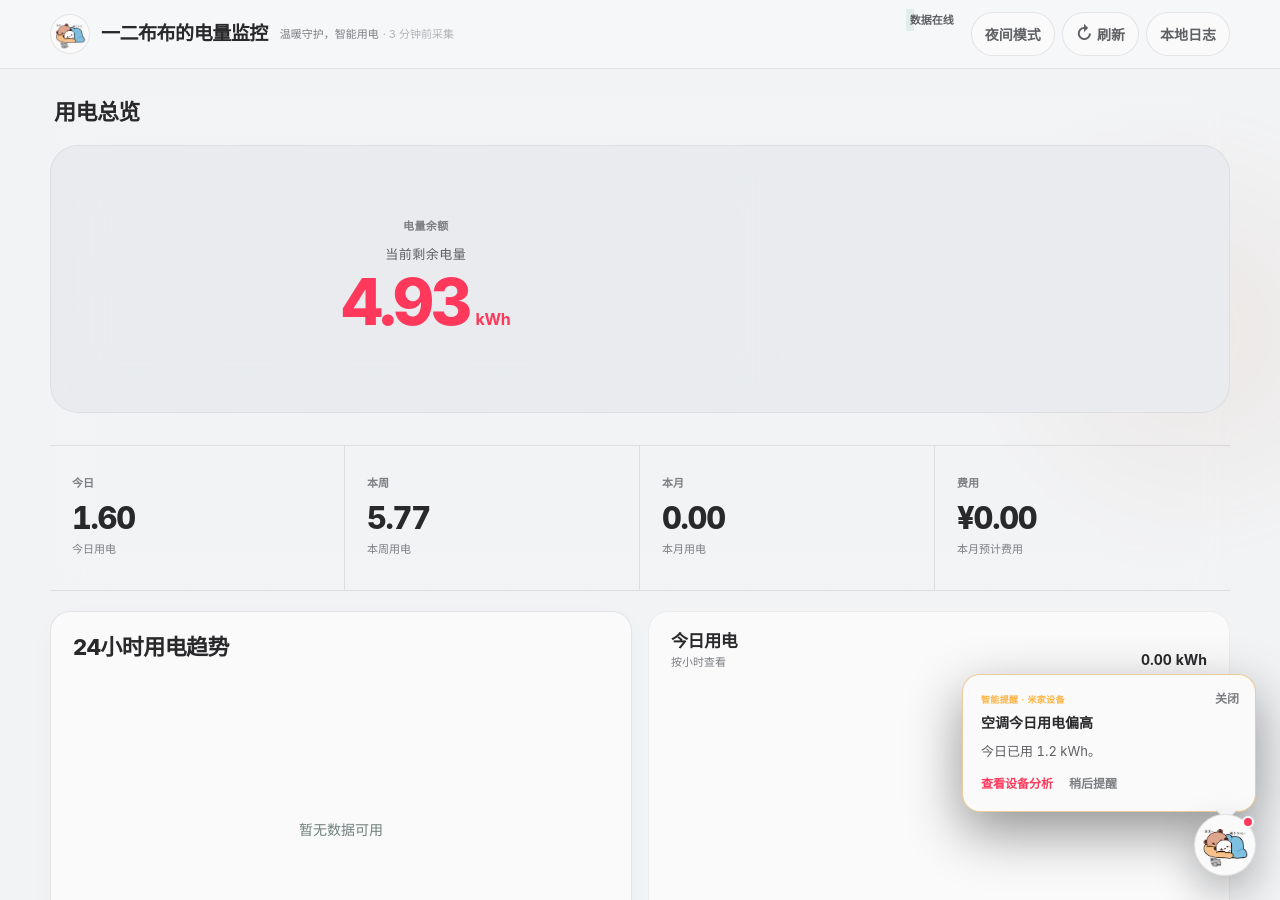
Test: sends recent structured conversation context for natural follow-up questions
Click the button named "打开布布用电助手" at (1225, 845), box x1=1194 y1=814 x2=1256 y2=876
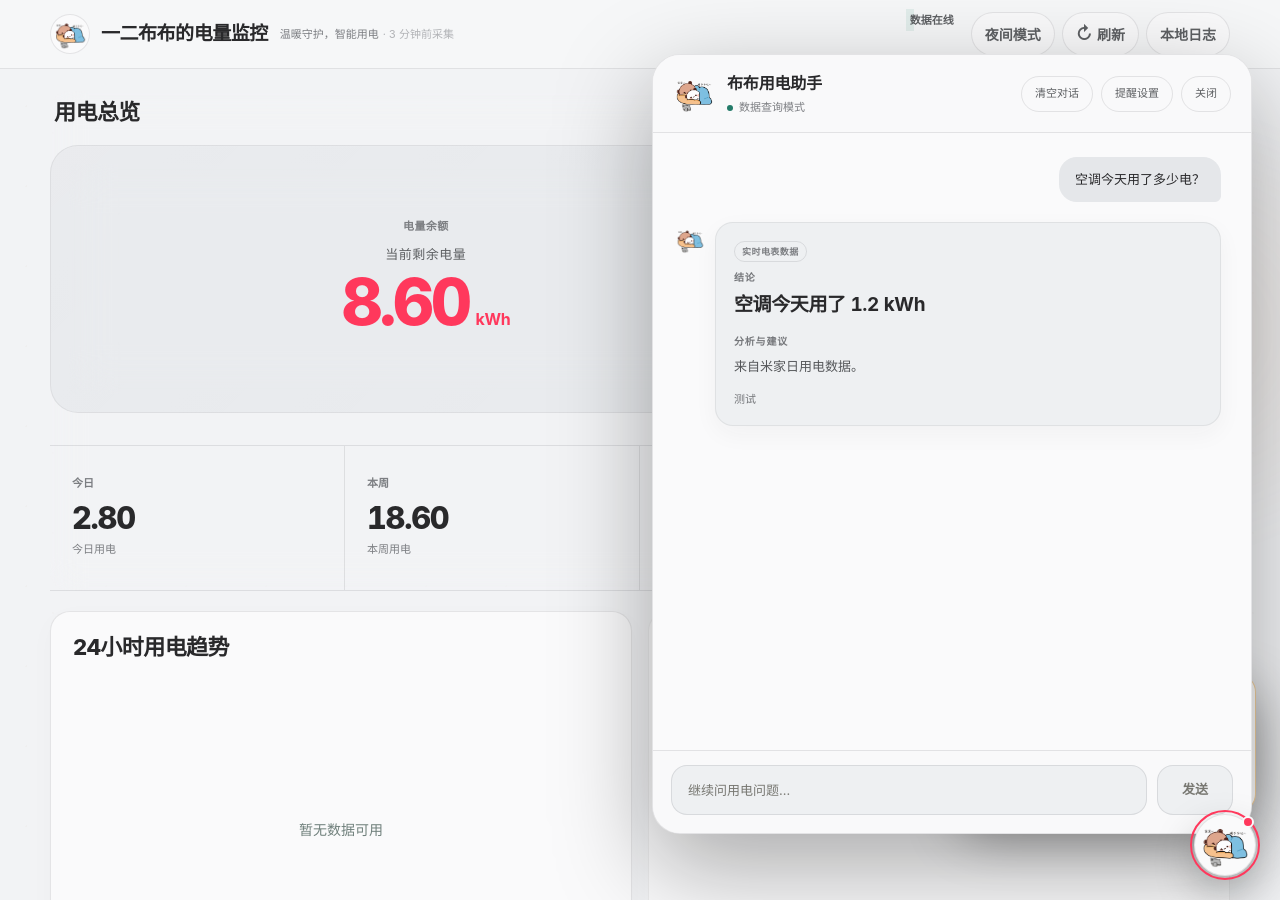
Type "那热水器呢？" into the field named "输入用电问题" at (909, 790), box x1=671 y1=765 x2=1147 y2=815
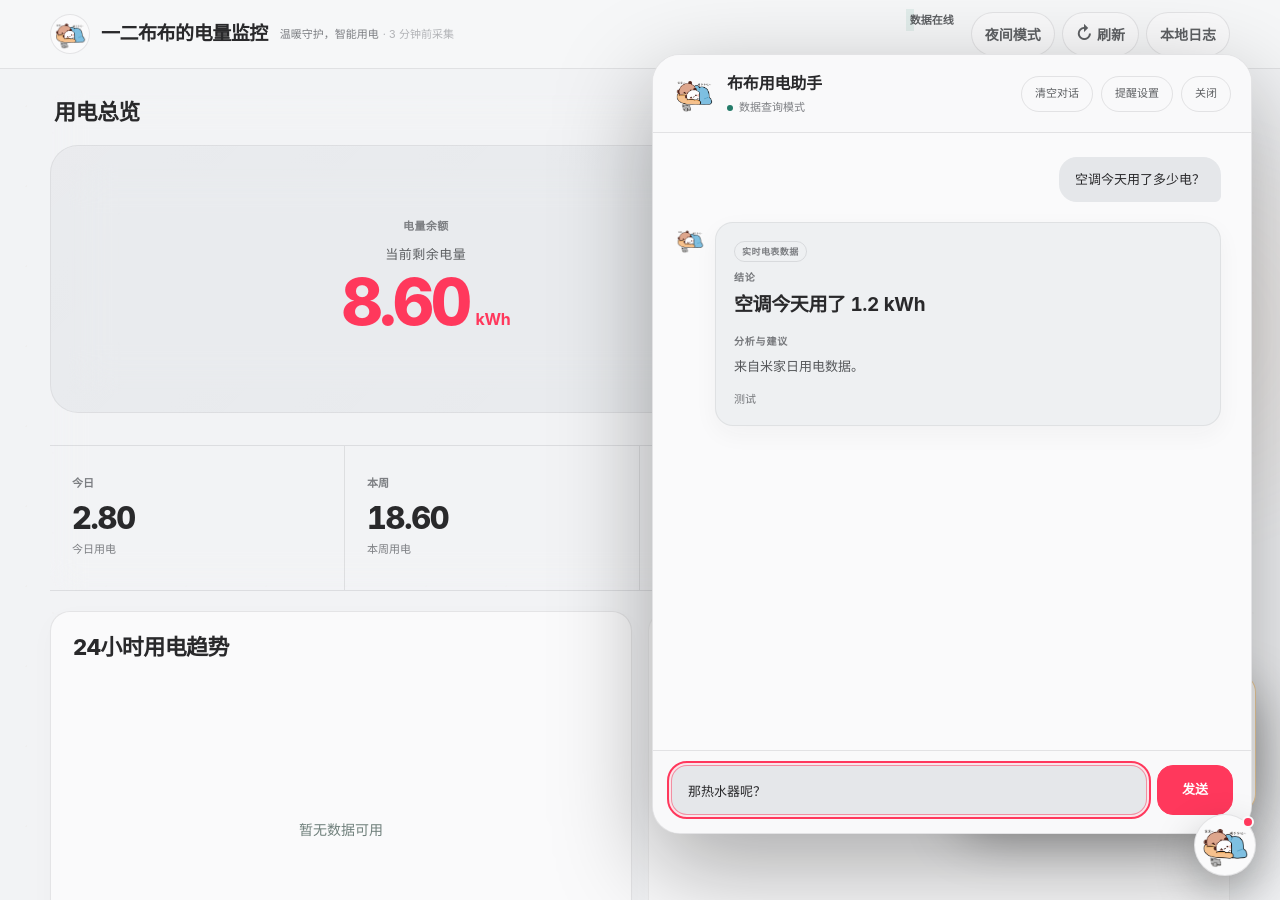
Click the button "发送" at (1195, 790), box x1=1157 y1=765 x2=1233 y2=815
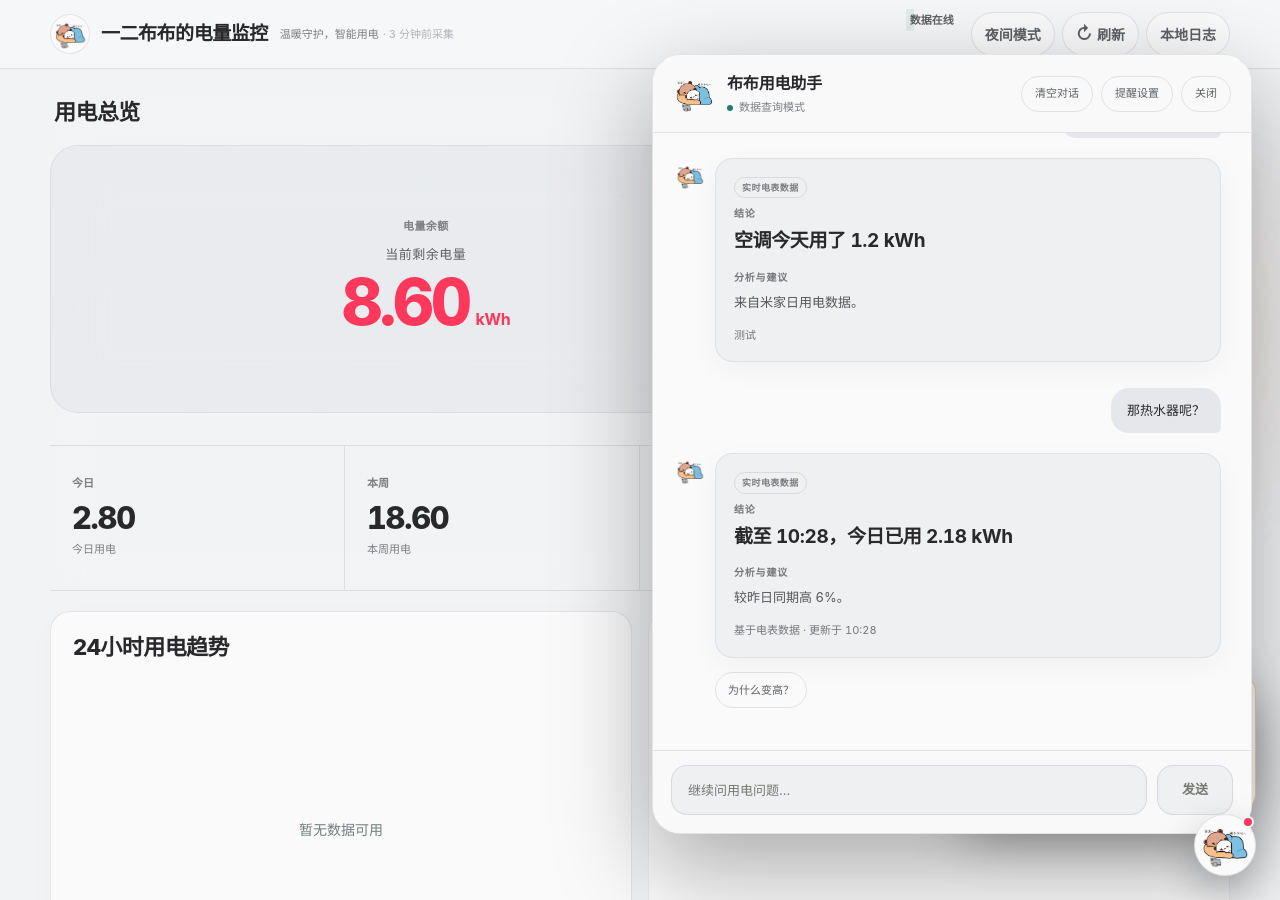
Expected: the text "截至 10:28，今日已用 2.18 kWh" is shown, x1=734 y1=525 x2=1013 y2=548
